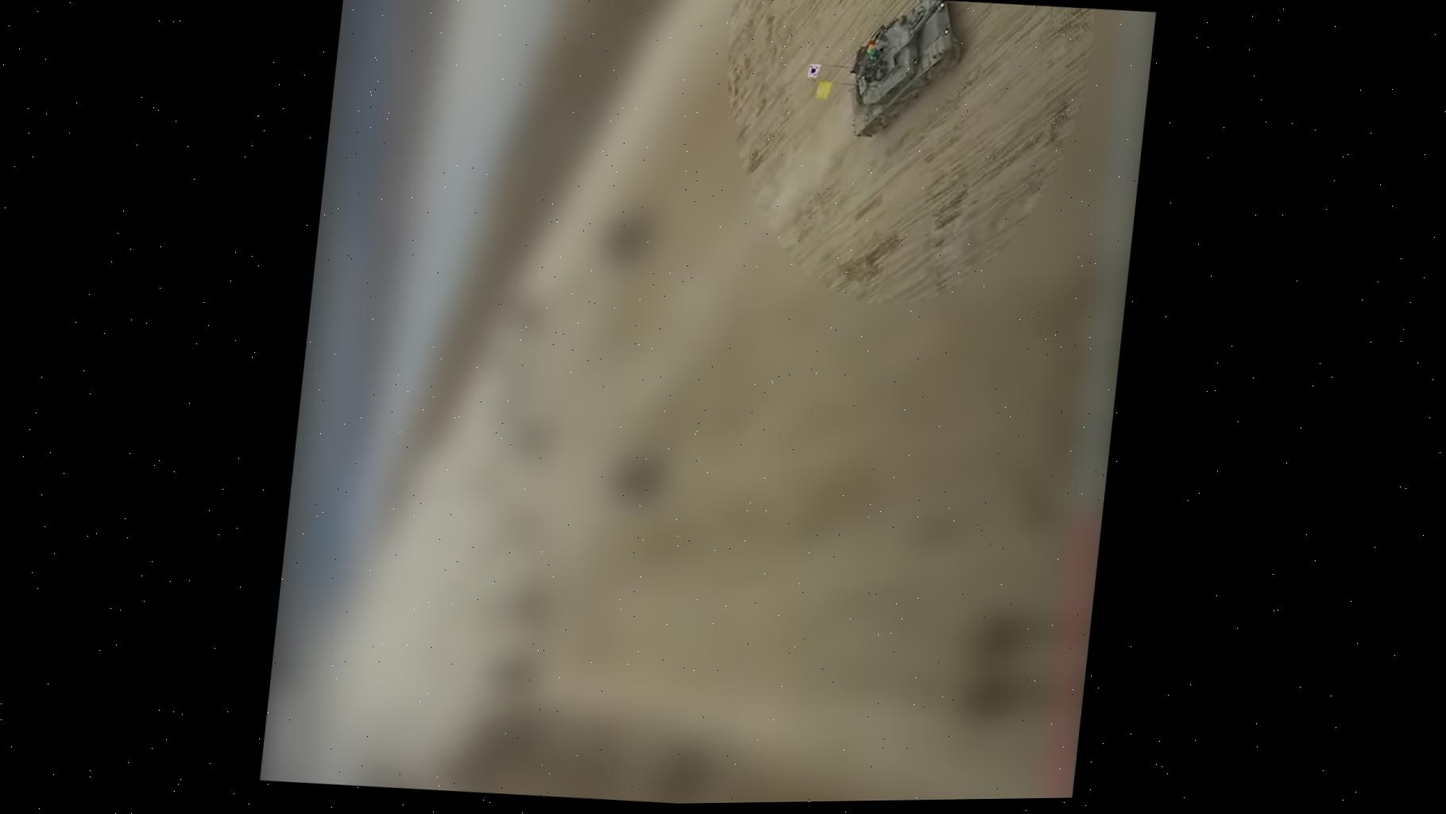tank: (838, 0, 968, 146)
